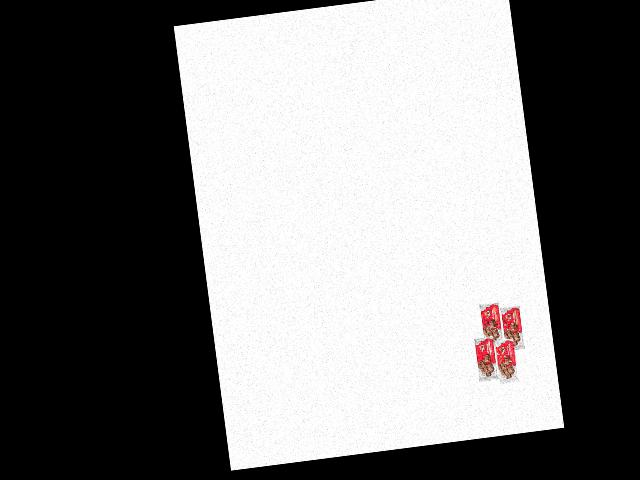chocolate: (496, 301, 527, 354)
